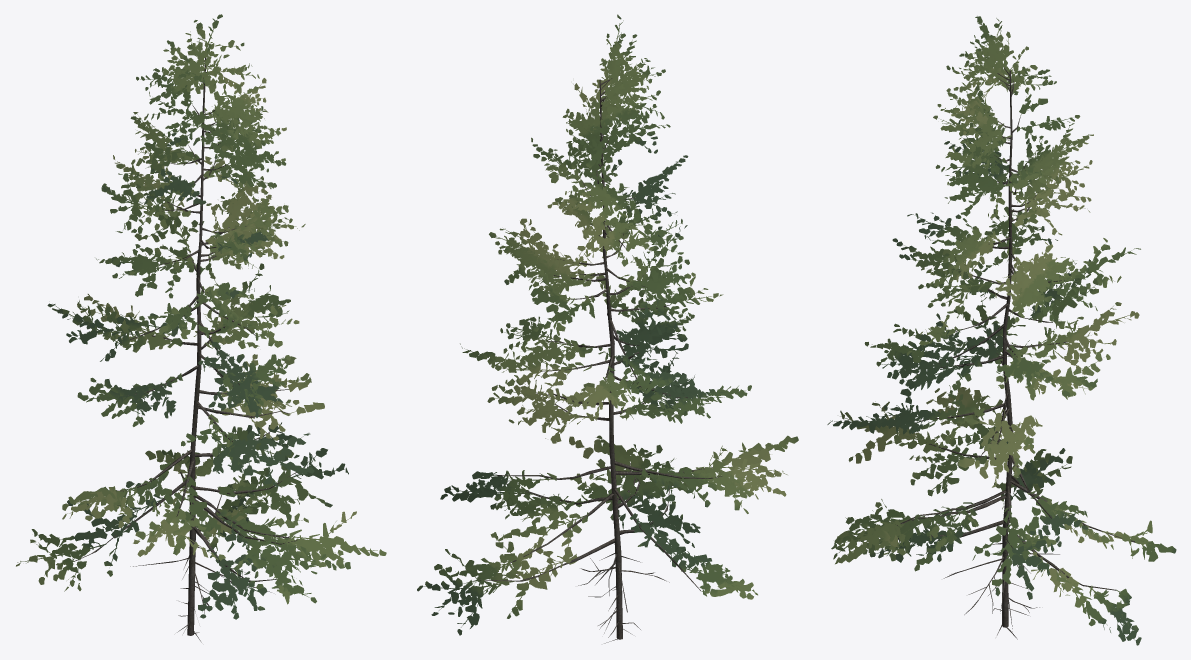
File: grounded-conifer-weathered.glb
The picture shows the model from 3 angles, left to right: view 1: azimuth 30°, elevation 25°; view 2: azimuth 150°, elevation 25°; view 3: azimuth 270°, elevation 25°; orthographic projection. The views are drawn at different scales.
Parts seen in each view (by area): view 1: grounded-conifer-weathered runtime mesh; view 2: grounded-conifer-weathered runtime mesh; view 3: grounded-conifer-weathered runtime mesh.
Part boxes in pixels (box(x1,y1,x2,y2)): grounded-conifer-weathered runtime mesh: box(16, 14, 386, 642); grounded-conifer-weathered runtime mesh: box(417, 14, 798, 643); grounded-conifer-weathered runtime mesh: box(827, 16, 1176, 645).
Size of the model in its own units: 3 by 5.58 by 2.81.
Materials: 3 (2 with a texture image).
